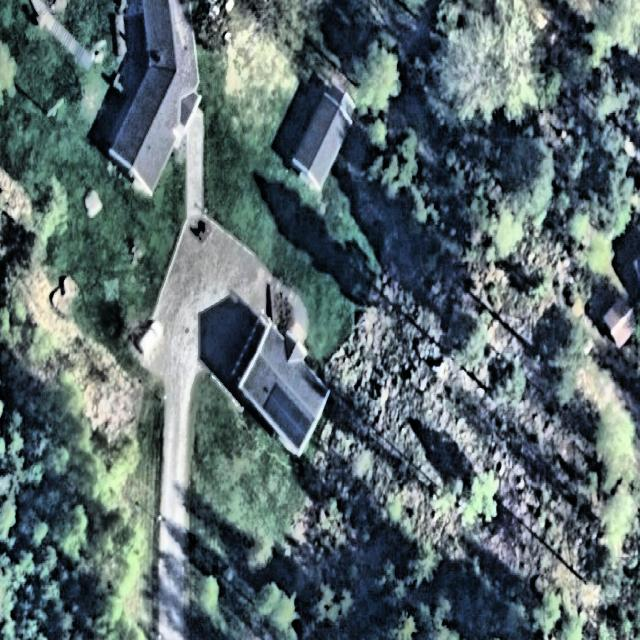roof_pv: (264, 381, 312, 450)
